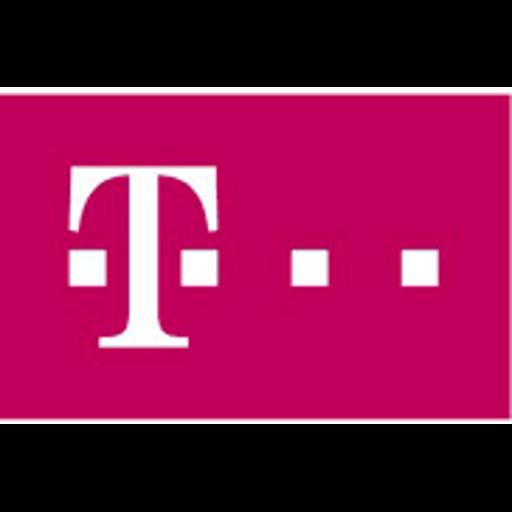Deutsche Telekom: (0, 87, 512, 424)
